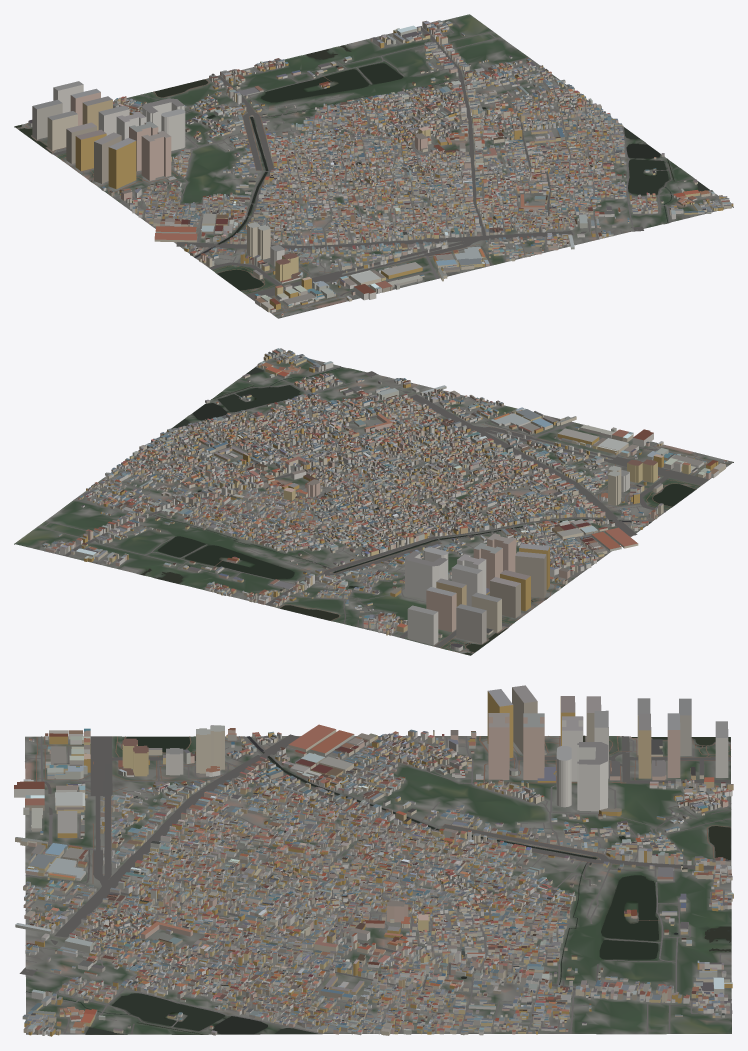
3 renders of one model, top to bottom at view 1: azimuth 30°, elevation 25°; view 2: azimuth 150°, elevation 25°; view 3: azimuth 270°, elevation 25°, orthographic. The views are drawn at different scales.
Parts seen in each view (by area): view 1: buildings, ground, roads, water; view 2: buildings, ground, roads, water; view 3: buildings, ground, roads, water.
Boxes of the visible parts, bbox=[...] form: buildings: bbox=[28, 20, 733, 316]; ground: bbox=[14, 14, 733, 318]; roads: bbox=[18, 26, 723, 315]; water: bbox=[15, 45, 709, 290]; buildings: bbox=[41, 348, 727, 651]; ground: bbox=[14, 355, 733, 655]; roads: bbox=[37, 358, 729, 652]; water: bbox=[141, 367, 695, 655]; buildings: bbox=[14, 685, 733, 1036]; ground: bbox=[25, 736, 731, 1034]; roads: bbox=[19, 734, 732, 1034]; water: bbox=[26, 736, 730, 1034].
Size of the model in its own units: 1452 by 121 by 1430.
